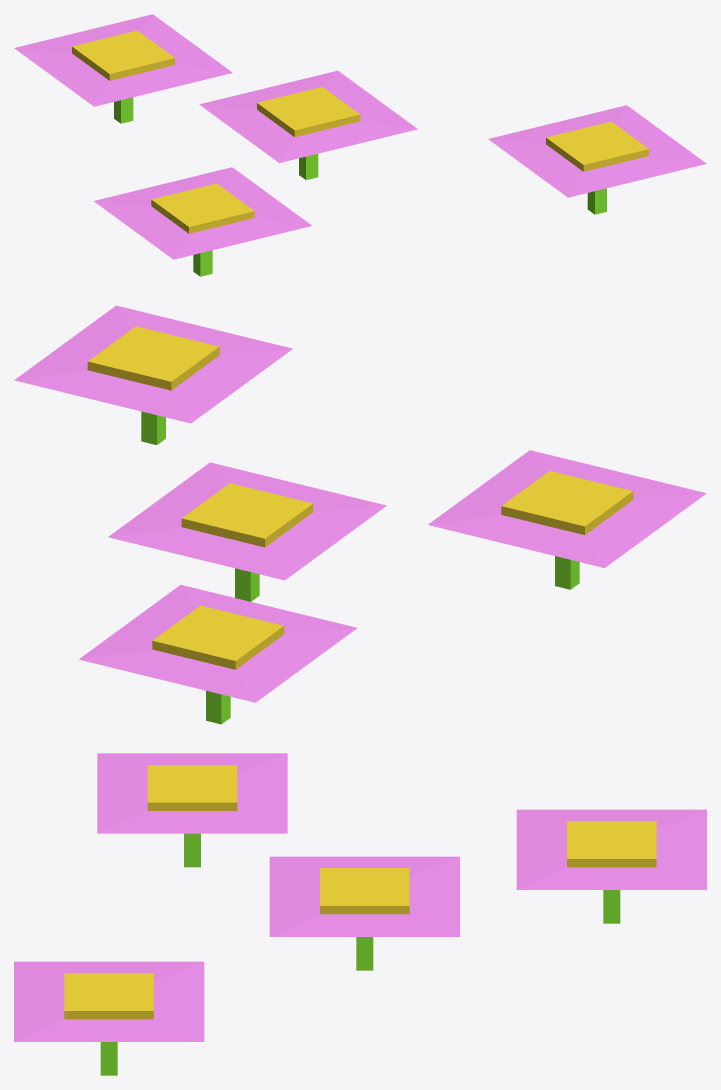
The model's file is Flower_Pink.fbx.
3 renders of one model, top to bottom at view 1: azimuth 30°, elevation 25°; view 2: azimuth 150°, elevation 25°; view 3: azimuth 270°, elevation 25°, orthographic. The views are drawn at different scales.
Visible parts, largest first — view 1: Cube.003, Cube, Cube.001, Cube.002; view 2: Cube.001, Cube, Cube.002, Cube.003; view 3: Cube, Cube.001, Cube.003, Cube.002.
Part boxes in pixels (x1,y1,x2,y2): Cube.003: (14,14,232,123); Cube: (199,70,417,179); Cube.001: (488,105,706,214); Cube.002: (94,167,311,276); Cube.001: (14,305,292,444); Cube: (108,462,386,601); Cube.002: (428,450,706,589); Cube.003: (79,585,357,724); Cube: (269,856,459,970); Cube.001: (14,961,204,1075); Cube.003: (516,809,706,923); Cube.002: (97,753,287,867).
Bounding box in the file's own units: 0.9192 × 0.1189 × 0.9326.
